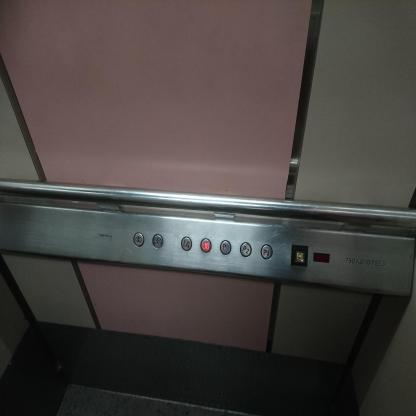LG: (180, 235, 193, 252)
P1: (219, 238, 232, 256)
P2: (239, 240, 252, 258)
P3: (260, 242, 274, 261)
UG: (199, 237, 212, 254)
alarm: (290, 242, 309, 269)
close: (151, 233, 164, 250)
led: (312, 250, 331, 265)
open: (132, 231, 145, 248)
